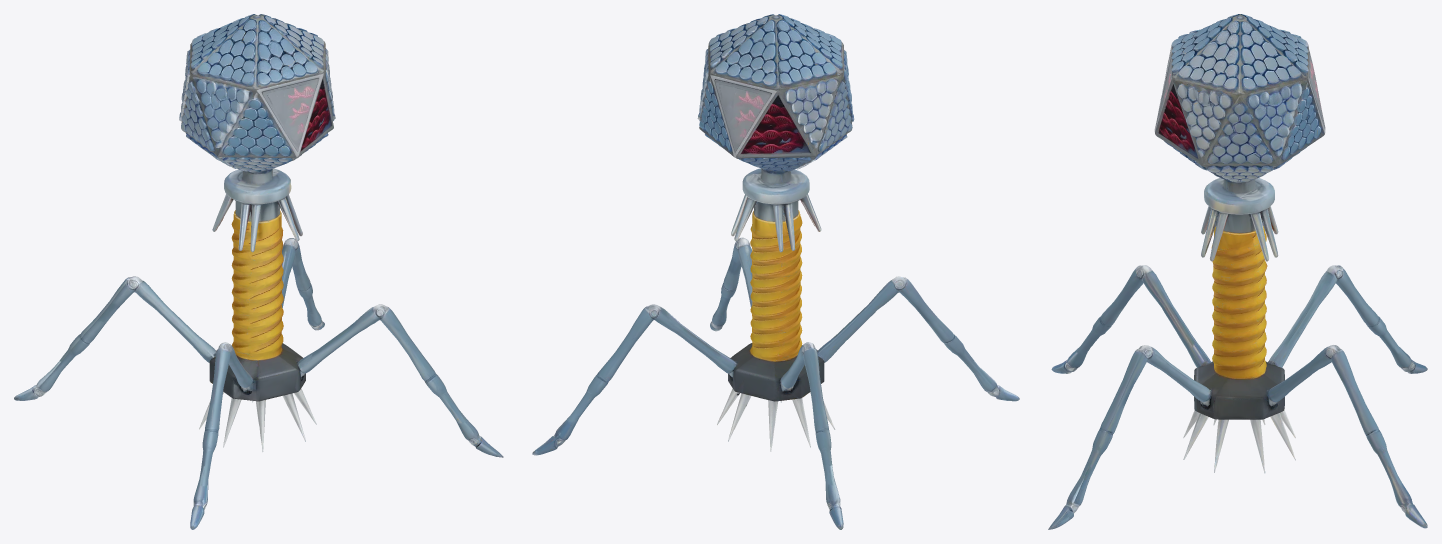
Rendered from bacteriophage.glb.
The picture shows the model from 3 angles, left to right: view 1: azimuth 30°, elevation 25°; view 2: azimuth 150°, elevation 25°; view 3: azimuth 270°, elevation 25°; orthographic projection. The views are drawn at different scales.
Visible parts, largest first — view 1: Mesh_0; view 2: Mesh_0; view 3: Mesh_0.
Boxes of the visible parts, bbox=[...] form: Mesh_0: bbox=[14, 14, 503, 529]; Mesh_0: bbox=[532, 14, 1019, 529]; Mesh_0: bbox=[1048, 14, 1427, 529].
Bounding box in the file's own units: 1.51 × 1.91 × 1.52.
1 material, 1 textured.
